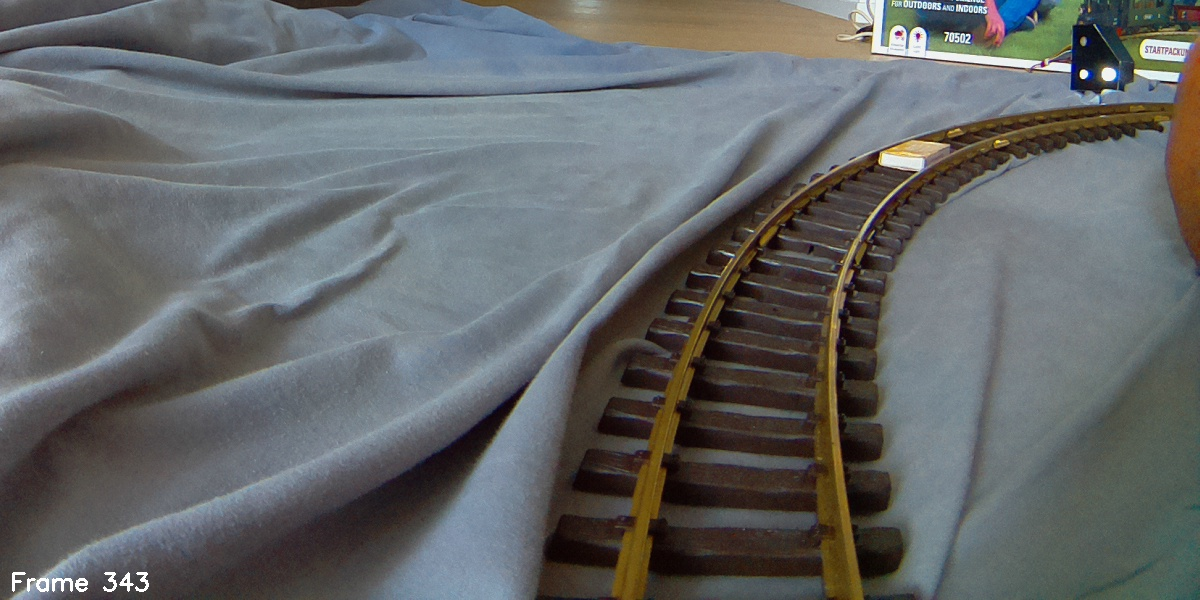Halt: (1073, 20, 1132, 92)
